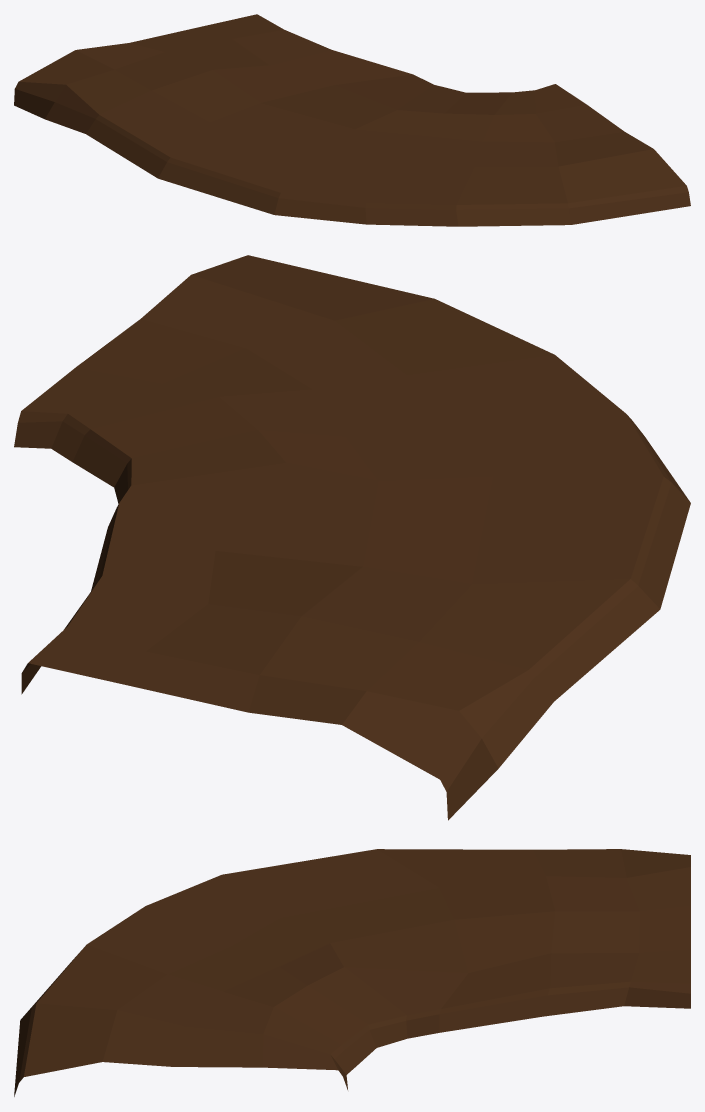
File: RoadDirty_4.fbx
3 views of the same model, one above another, from view 1: azimuth 30°, elevation 25°; view 2: azimuth 150°, elevation 25°; view 3: azimuth 270°, elevation 25° (orthographic). The views are drawn at different scales.
Parts seen in each view (by area): view 1: RoadDirty_4; view 2: RoadDirty_4; view 3: RoadDirty_4.
Boxes of the visible parts, bbox=[...] form: RoadDirty_4: bbox=[14, 14, 690, 226]; RoadDirty_4: bbox=[14, 255, 690, 820]; RoadDirty_4: bbox=[14, 849, 690, 1096].
Bounding box in the file's own units: 483 × 50.55 × 599.
